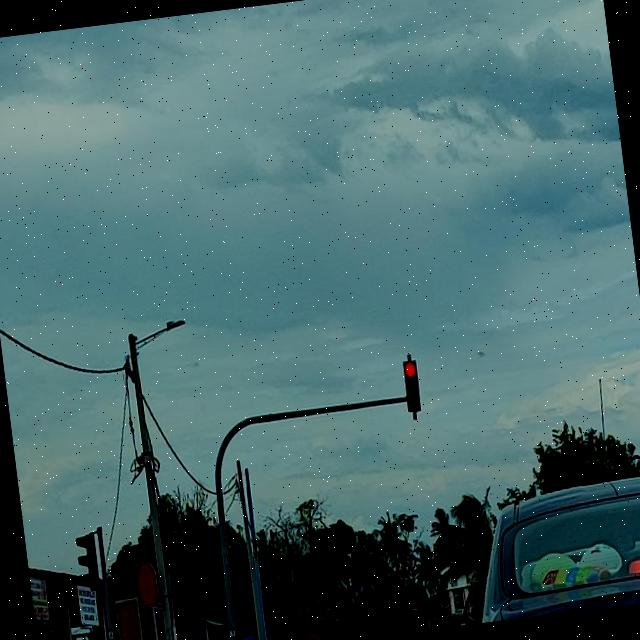red_light: (400, 358, 422, 413)
